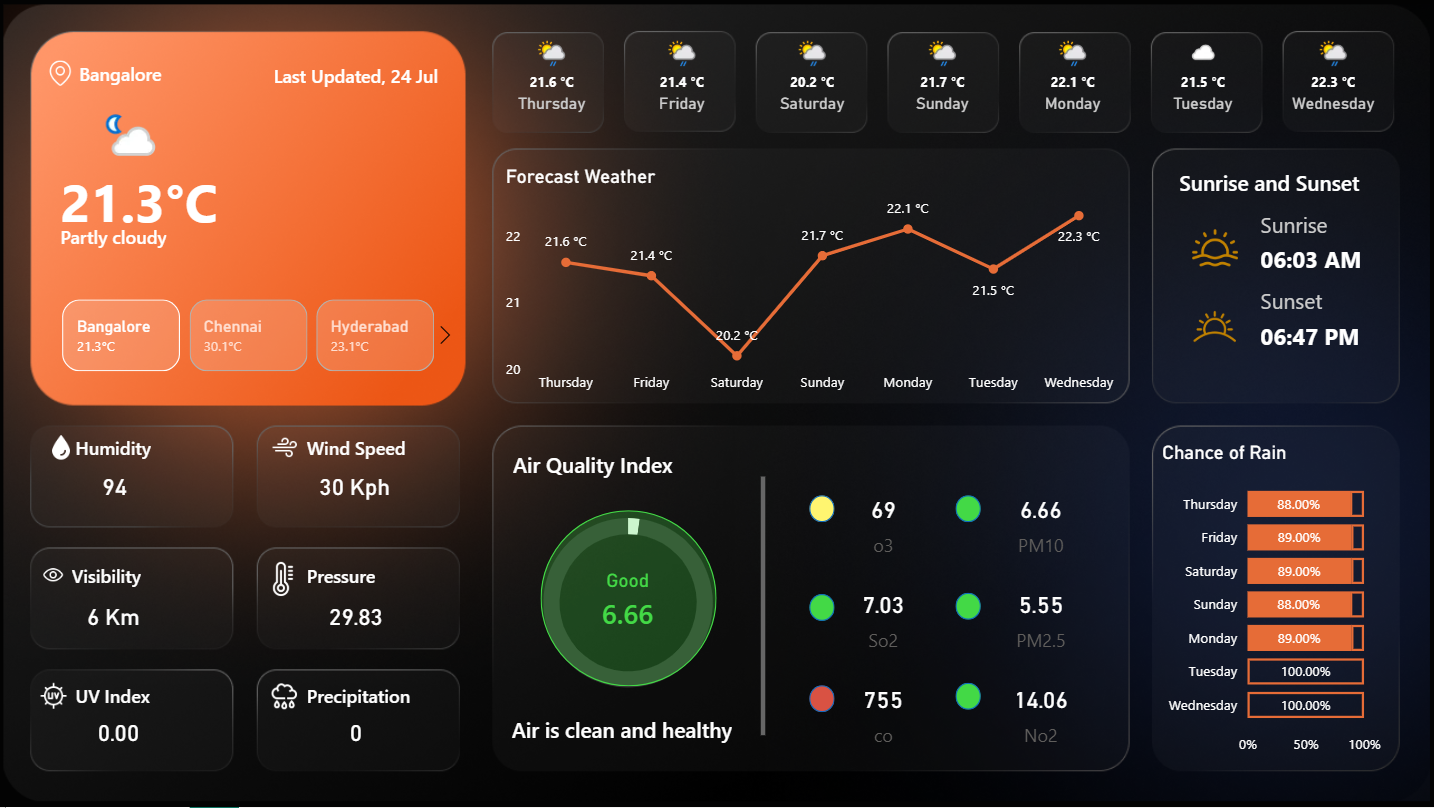

What the dashboard file says about the page in this screenshot:
{"tool":"powerbi","page":{"name":"weather_dashboard","canvas":[1280,720],"ordinal":0},"visuals":[{"type":"image","box":[0,0,1280.2,719.1],"z":0},{"type":"advancedSlicerVisual","fields":{"Values":["Locations.location.name"]},"box":[32.6,263,381.2,74.8],"z":1000},{"type":"shape","box":[56.2,148.1,224.7,63],"z":2000},{"type":"shape","box":[56.2,195.7,224.7,30.6],"z":3000},{"type":"shape","box":[72.3,50.1,96,32],"z":4000},{"type":"shape","box":[235.1,51.5,157.2,32],"z":5000},{"type":"image","box":[39,382.6,34.8,33.4],"z":6000},{"type":"image","box":[37.6,50.1,34.8,32],"z":7000},{"type":"cardVisual","fields":{"Data":["Min(Current.current.condition.icon)"]},"box":[69.6,82.1,101.6,75.1],"z":8000},{"type":"shape","box":[69.6,382.6,82.1,32],"z":9000},{"type":"shape","box":[275.5,382.6,103,32],"z":10000},{"type":"shape","box":[275.5,496.7,103,32],"z":11000},{"type":"shape","box":[65.4,496.7,76.5,32],"z":12000},{"type":"shape","box":[69.6,603.8,103,32],"z":13000},{"type":"shape","box":[275.5,603.8,103,32],"z":14000},{"type":"image","box":[235.1,382.6,40.3,33.4],"z":15000},{"type":"image","box":[32,498.1,33.4,30.6],"z":16000},{"type":"image","box":[32,603.8,34.8,34.8],"z":17000},{"type":"image","box":[233.7,602.4,41.7,37.6],"z":18000},{"type":"image","box":[233.7,496.7,40.3,40.3],"z":19000},{"type":"card","fields":{"Values":["Sum(Current.current.pressure_in)"]},"box":[275.2,528.7,88.1,43.3],"z":20000},{"type":"card","fields":{"Values":["_Measures.Visibility"]},"box":[58.7,533.3,88.1,34],"z":21000},{"type":"card","fields":{"Values":["Sum(Current.current.uv)"]},"box":[63.4,636.9,88.1,34],"z":22000},{"type":"card","fields":{"Values":["Sum(Current.current.precip_in)"]},"box":[275.2,636.9,88.1,34],"z":23000},{"type":"card","fields":{"Values":["_Measures.Wind_speed"]},"box":[273.6,417.4,88.1,34],"z":24000},{"type":"card","fields":{"Values":["Sum(Current.current.humidity)"]},"box":[60.3,417.4,88.1,34],"z":25000},{"type":"advancedSlicerVisual","fields":{"Values":["Forecast_day.Day_name"]},"box":[434.4,26.3,814.7,92.8],"z":26000},{"type":"lineChart","title":"Forecast Weather","fields":{"Y":["Sum(Forecast_day.forecast.forecastday.day.avgtemp_c)"],"Category":["Forecast_day.Day_name"]},"box":[447.5,147.8,556.8,211.8],"z":27000},{"type":"shape","box":[1052.2,147.8,163.8,32],"z":28000},{"type":"shape","box":[1124.2,210.4,101.2,41.3],"z":29000},{"type":"shape","box":[1124.2,247.7,101.2,41.3],"z":30000},{"type":"shape","box":[1124.2,279.7,101.2,41.3],"z":31000},{"type":"shape","box":[1124.2,179.8,101.2,41.3],"z":32000},{"type":"image","box":[1052.2,261.1,62.6,59.9],"z":33000},{"type":"image","box":[1058.9,194.5,50.6,53.3],"z":34000},{"type":"hundredPercentStackedBarChart","title":"Chance of Rain","fields":{"Y":["Sum(Forecast_day.forecast.forecastday.day.daily_chance_of_rain)","_Measures.Left_value_rain"],"Category":["Forecast_day.Day_name"]},"box":[1032,393.6,204.8,288],"z":35000},{"type":"shape","box":[458.4,398.1,164.1,31.4],"z":36000},{"type":"card","fields":{"Values":["Sum(Current.current.air_quality.pm10)"]},"box":[884.6,434.3,87.9,63.9],"z":37000},{"type":"card","fields":{"Values":["Sum(Current.current.air_quality.co)"]},"box":[744.7,603.5,87.9,63.9],"z":38000},{"type":"card","fields":{"Values":["Sum(Current.current.air_quality.no2)"]},"box":[884.6,603.5,87.9,63.9],"z":39000},{"type":"card","fields":{"Values":["Sum(Current.current.air_quality.pm2_5)"]},"box":[884.6,518.2,87.9,63.9],"z":40000},{"type":"card","fields":{"Values":["Sum(Current.current.air_quality.so2)"]},"box":[744.7,518.2,87.9,63.9],"z":41000},{"type":"card","fields":{"Values":["Sum(Current.current.air_quality.o3)"]},"box":[744.7,434.3,87.9,63.9],"z":42000},{"type":"shape","box":[852.6,442.3,22.6,24],"z":43000},{"type":"shape","box":[852.6,528.9,22.6,24],"z":44000},{"type":"shape","box":[722.1,442.3,22.6,24],"z":45000},{"type":"shape","box":[722.1,530.2,22.6,24],"z":46000},{"type":"shape","box":[722.1,611.5,22.6,24],"z":47000},{"type":"shape","box":[852.6,608.8,22.6,24],"z":48000},{"type":"shape","box":[603.5,425,155.9,230.5],"z":49000},{"type":"card","fields":{"Values":["Sum(Current.current.air_quality.pm10)"]},"box":[516.9,507.1,88.6,64],"z":50000},{"type":"donutChart","fields":{"Y":["Sum(Current.current.air_quality.pm10)","Measures_.Left_value_PM10"]},"box":[449.6,438.2,223.2,198.6],"z":51000},{"type":"shape","box":[482.6,454.8,156.8,156.8],"z":52000},{"type":"shape","box":[457.8,620.3,215,62.4],"z":53000}]}

Visuals, with their boxes in screenshot pixels (x1, y1, x2, y2), scaled from the page's 1280x720 canvas onto the 1434x808 screenshot:
image: (x1=0, y1=0, x2=1433, y2=807)
advancedSlicerVisual - Locations.location.name: (x1=37, y1=295, x2=464, y2=379)
shape: (x1=63, y1=166, x2=315, y2=237)
shape: (x1=63, y1=220, x2=315, y2=254)
shape: (x1=81, y1=56, x2=189, y2=92)
shape: (x1=263, y1=58, x2=439, y2=94)
image: (x1=44, y1=429, x2=83, y2=467)
image: (x1=42, y1=56, x2=81, y2=92)
cardVisual - Min(Current.current.condition.icon): (x1=78, y1=92, x2=192, y2=176)
shape: (x1=78, y1=429, x2=170, y2=465)
shape: (x1=309, y1=429, x2=424, y2=465)
shape: (x1=309, y1=557, x2=424, y2=593)
shape: (x1=73, y1=557, x2=159, y2=593)
shape: (x1=78, y1=678, x2=193, y2=714)
shape: (x1=309, y1=678, x2=424, y2=714)
image: (x1=263, y1=429, x2=309, y2=467)
image: (x1=36, y1=559, x2=73, y2=593)
image: (x1=36, y1=678, x2=75, y2=717)
image: (x1=262, y1=676, x2=309, y2=718)
image: (x1=262, y1=557, x2=307, y2=603)
card - Sum(Current.current.pressure_in): (x1=308, y1=593, x2=407, y2=642)
card - _Measures.Visibility: (x1=66, y1=598, x2=164, y2=637)
card - Sum(Current.current.uv): (x1=71, y1=715, x2=170, y2=753)
card - Sum(Current.current.precip_in): (x1=308, y1=715, x2=407, y2=753)
card - _Measures.Wind_speed: (x1=307, y1=468, x2=405, y2=507)
card - Sum(Current.current.humidity): (x1=68, y1=468, x2=166, y2=507)
advancedSlicerVisual - Forecast_day.Day_name: (x1=487, y1=30, x2=1399, y2=134)
"Forecast Weather" lineChart: (x1=501, y1=166, x2=1125, y2=404)
shape: (x1=1179, y1=166, x2=1362, y2=202)
shape: (x1=1259, y1=236, x2=1373, y2=282)
shape: (x1=1259, y1=278, x2=1373, y2=324)
shape: (x1=1259, y1=314, x2=1373, y2=360)
shape: (x1=1259, y1=202, x2=1373, y2=248)
image: (x1=1179, y1=293, x2=1249, y2=360)
image: (x1=1186, y1=218, x2=1243, y2=278)
"Chance of Rain" hundredPercentStackedBarChart: (x1=1156, y1=442, x2=1386, y2=765)
shape: (x1=514, y1=447, x2=697, y2=482)
card - Sum(Current.current.air_quality.pm10): (x1=991, y1=487, x2=1090, y2=559)
card - Sum(Current.current.air_quality.co): (x1=834, y1=677, x2=933, y2=749)
card - Sum(Current.current.air_quality.no2): (x1=991, y1=677, x2=1090, y2=749)
card - Sum(Current.current.air_quality.pm2_5): (x1=991, y1=582, x2=1090, y2=653)
card - Sum(Current.current.air_quality.so2): (x1=834, y1=582, x2=933, y2=653)
card - Sum(Current.current.air_quality.o3): (x1=834, y1=487, x2=933, y2=559)
shape: (x1=955, y1=496, x2=980, y2=523)
shape: (x1=955, y1=594, x2=980, y2=620)
shape: (x1=809, y1=496, x2=834, y2=523)
shape: (x1=809, y1=595, x2=834, y2=622)
shape: (x1=809, y1=686, x2=834, y2=713)
shape: (x1=955, y1=683, x2=980, y2=710)
shape: (x1=676, y1=477, x2=851, y2=736)
card - Sum(Current.current.air_quality.pm10): (x1=579, y1=569, x2=678, y2=641)
donutChart - Sum(Current.current.air_quality.pm10) x Measures_.Left_value_PM10: (x1=504, y1=492, x2=754, y2=715)
shape: (x1=541, y1=510, x2=716, y2=686)
shape: (x1=513, y1=696, x2=754, y2=766)
